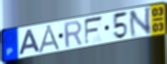5: (111, 11, 129, 40)
A: (37, 24, 63, 54), (17, 28, 42, 56)
F: (83, 15, 105, 47)
N: (128, 5, 153, 39)
R: (63, 20, 84, 50)
